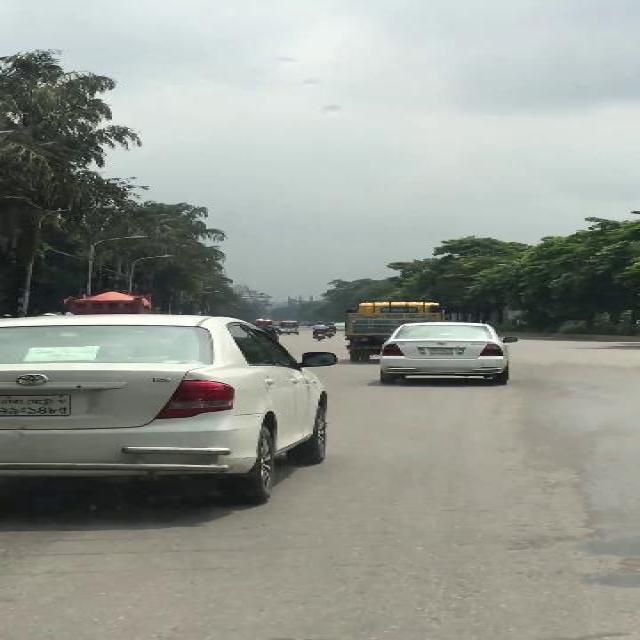car: (2, 314, 338, 506), (377, 320, 519, 386)
motorbike: (311, 319, 325, 341), (327, 322, 338, 338)
three wheelers -CNG-: (276, 320, 300, 334)
truck: (345, 298, 444, 324)
